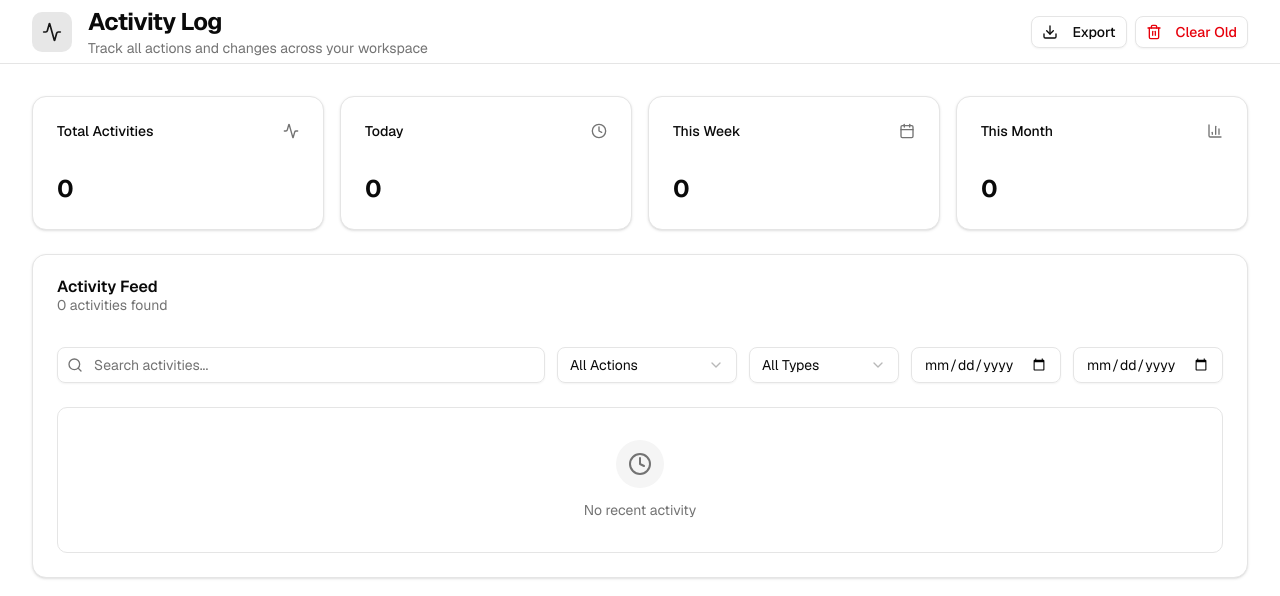
Test: ActivityLogPage › should clear filters when clear filters button is clicked
Type "test" into the field with placeholder "Search activities..." at (301, 365), box [57, 347, 545, 383]
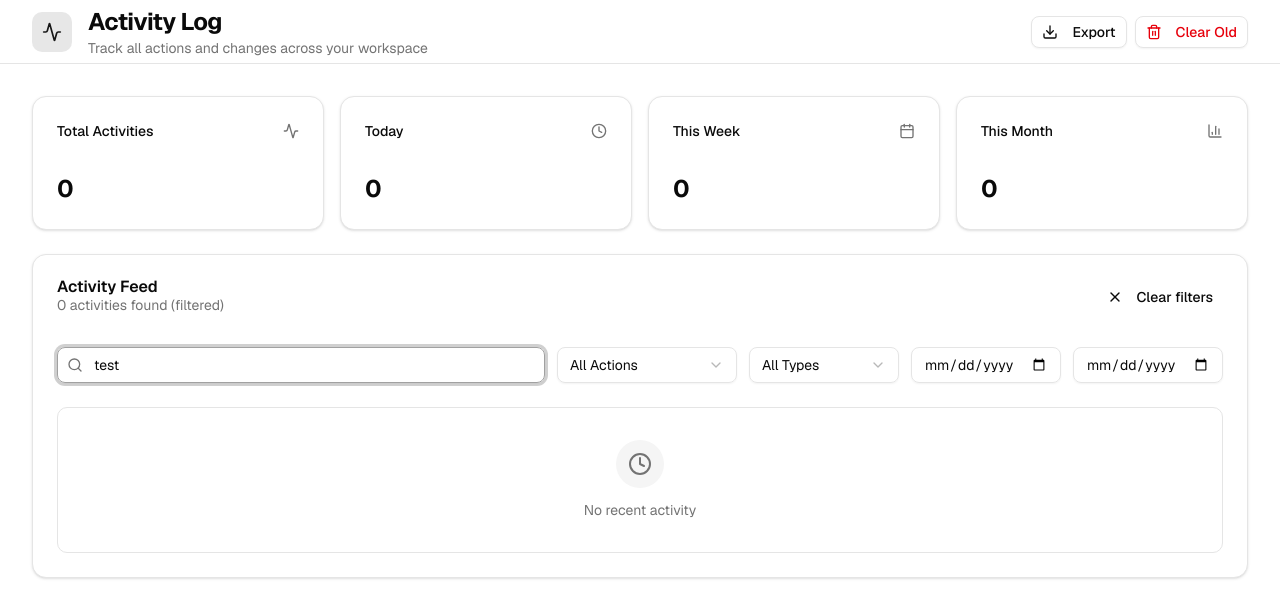
Click the button "Clear filters" at (1160, 297), box [1096, 281, 1223, 313]
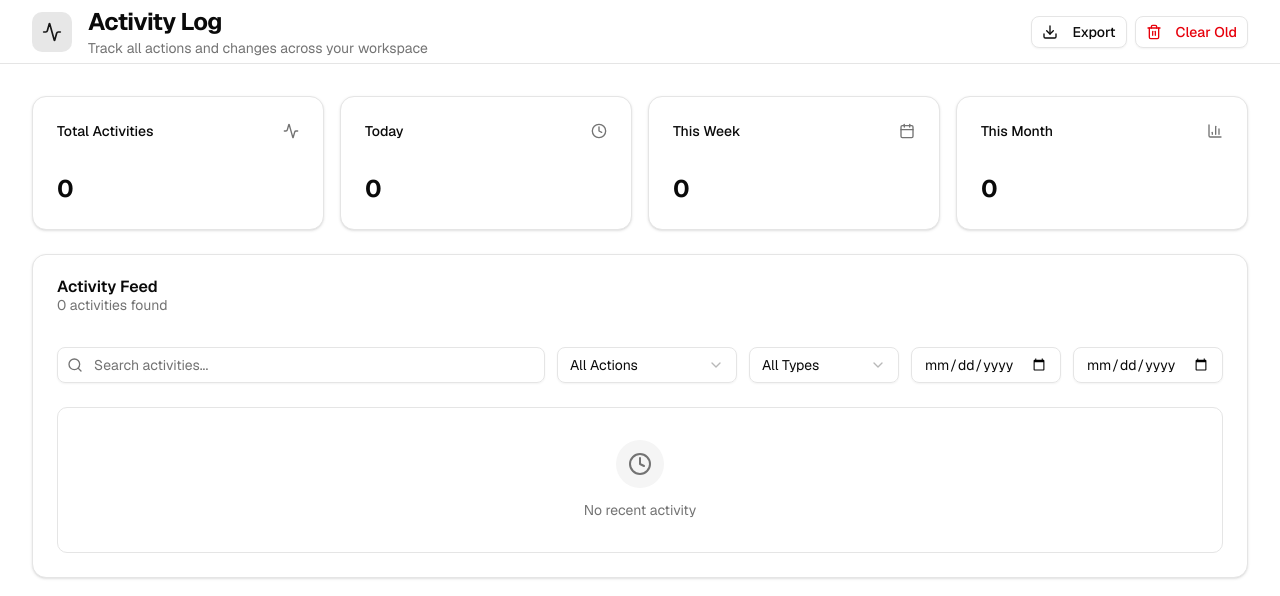
Now the field with placeholder "Search activities..." is empty, box [57, 347, 545, 383]
